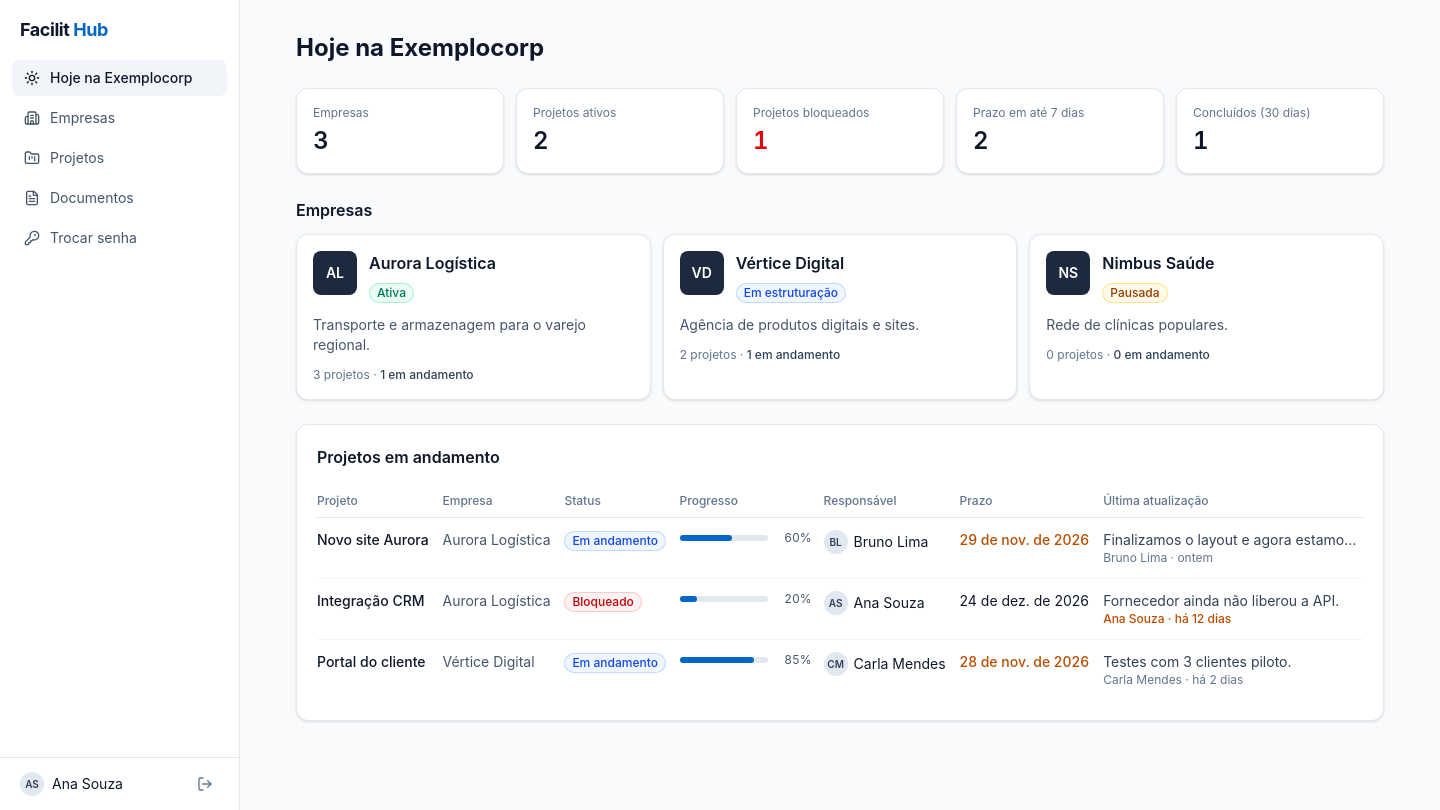
Scenario: painel e permissões › card de bloqueados abre a lista filtrada
The width and height of the screenshot is (1440, 810).
Click the text "Projetos bloqueados".
click(811, 112)  # box [753,105,869,120]
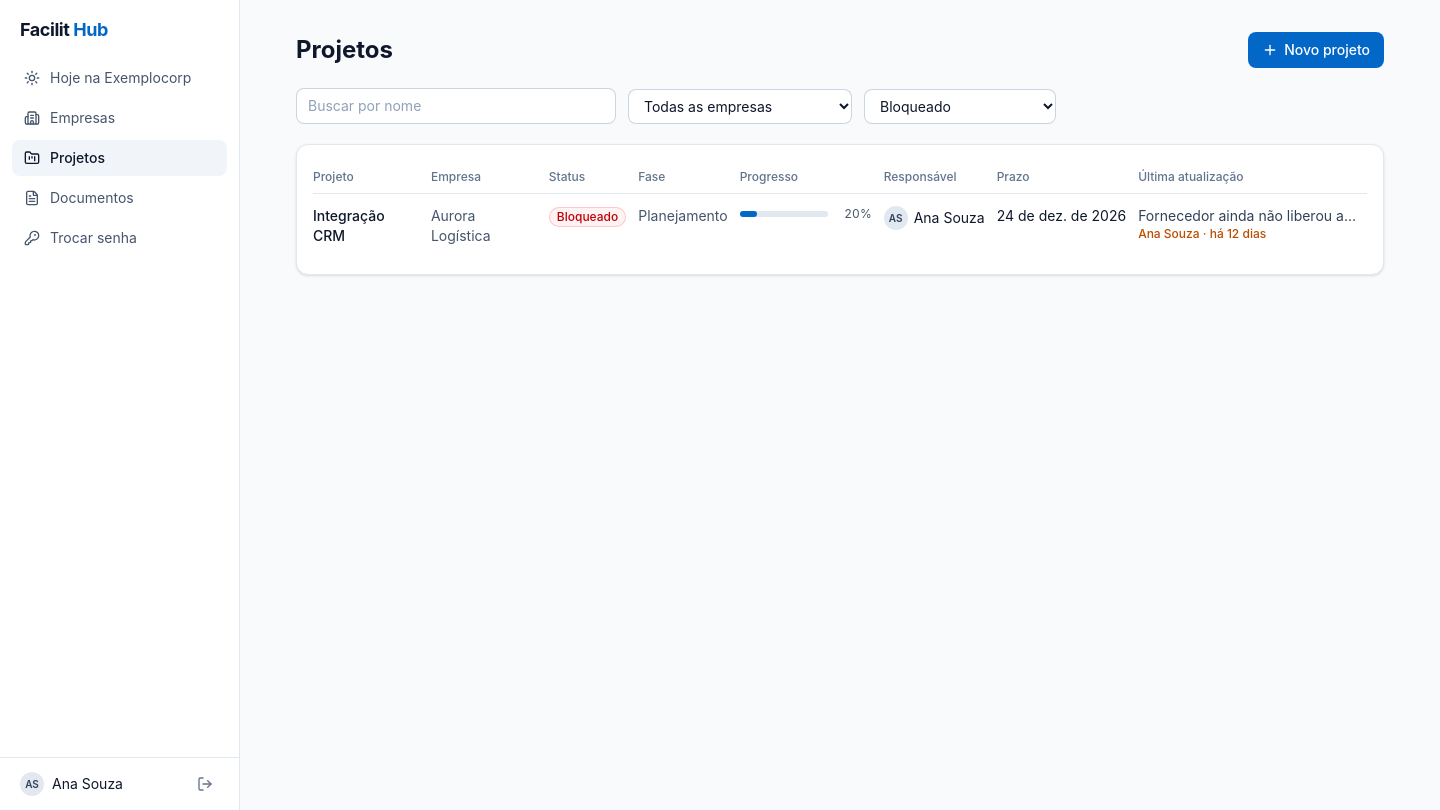
Expected: the link "Integração CRM" is shown, [313,207,385,244]
Expected: the heading "Projetos" is shown, [296,34,393,66]
Expected: the link "Novo site Aurora" is gone
